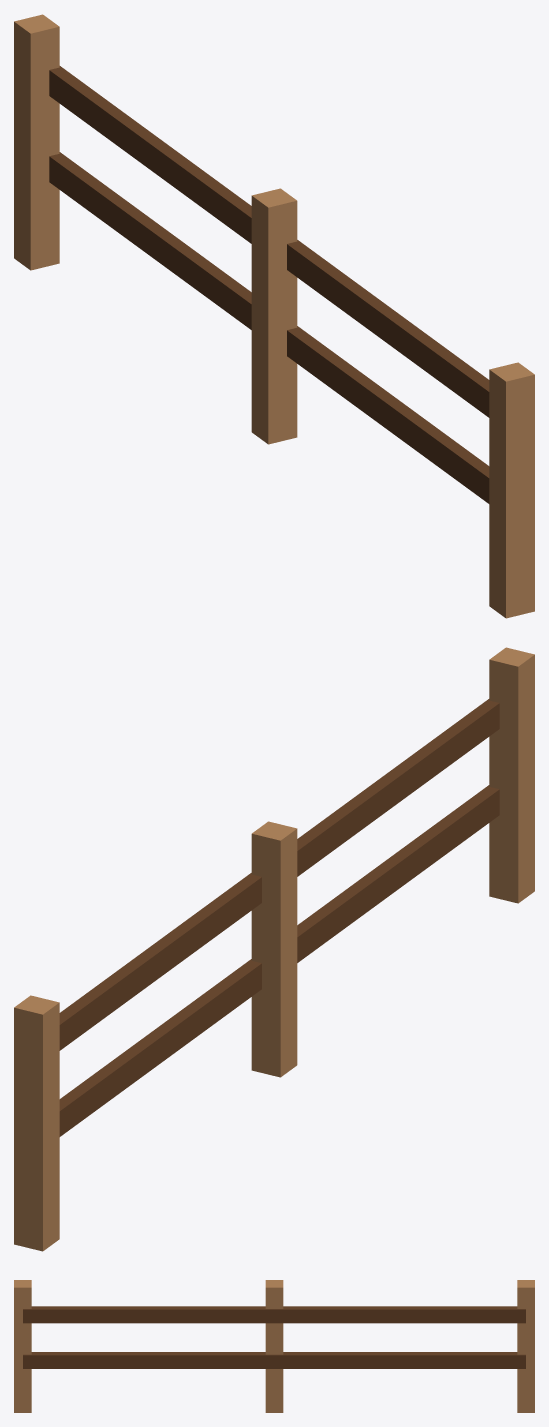
Rendered from fence-wood.glb.
3 renders of one model, top to bottom at view 1: azimuth 30°, elevation 25°; view 2: azimuth 150°, elevation 25°; view 3: azimuth 270°, elevation 25°, orthographic. The views are drawn at different scales.
Visible parts, largest first — view 1: fence; view 2: fence; view 3: fence.
Part boxes in pixels (x1=…): fence: x1=14, y1=14, x2=534, y2=618; fence: x1=14, y1=647, x2=534, y2=1251; fence: x1=14, y1=1280, x2=534, y2=1412.
Size of the model in its own units: 0.1504 by 1.1 by 4.14.
